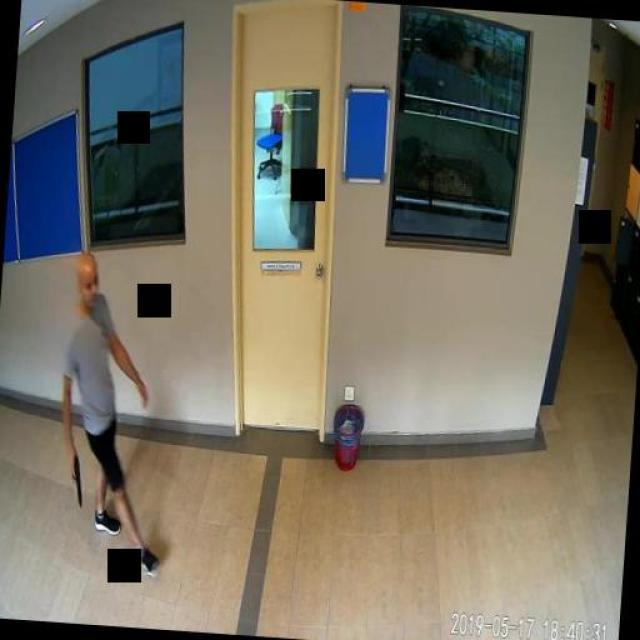gun: (64, 448, 85, 503)
